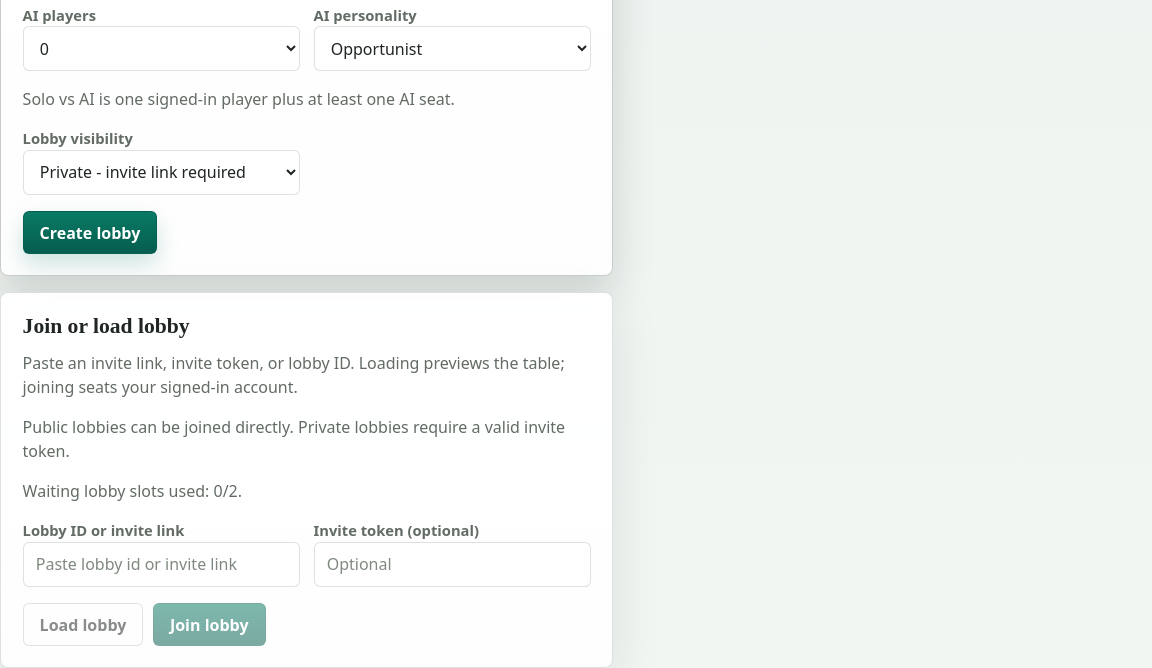
Test case: LobbiesPage › joins a private lobby from a pasted invite link
(page scrolled)
In the field labelled "Lobby ID or invite link": (161, 564) [23,542,300,587], type "http://localhost/lobbies?id=shared-lobby&token=invite-join"
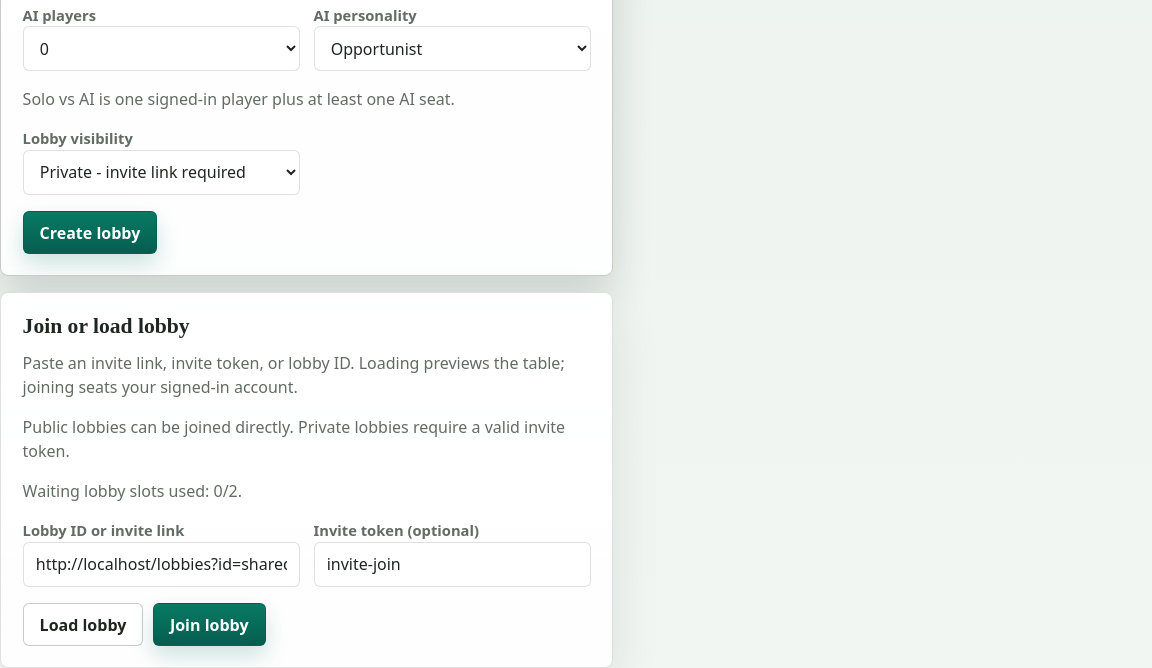
Click the button "Join lobby": click(209, 624) [153,603,266,646]
(page scrolled)
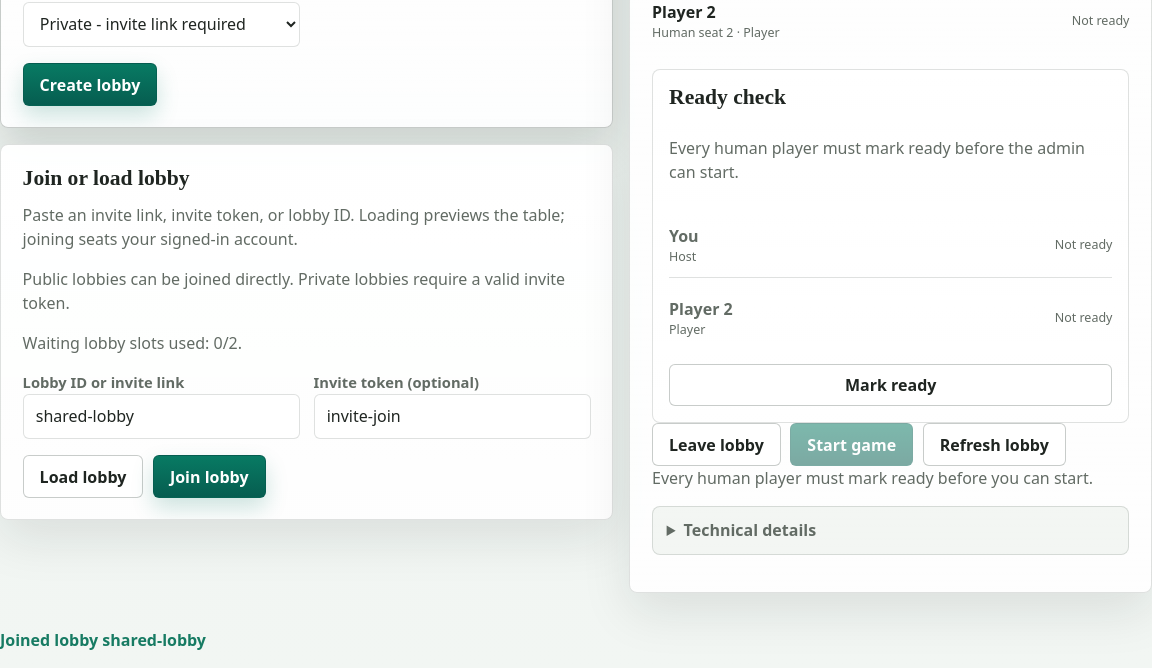
Now the field labelled "Invite token (optional)" holds "invite-join", box [314,394,591,439]
Now the field labelled "Lobby ID or invite link" holds "shared-lobby", box [23,394,300,439]
